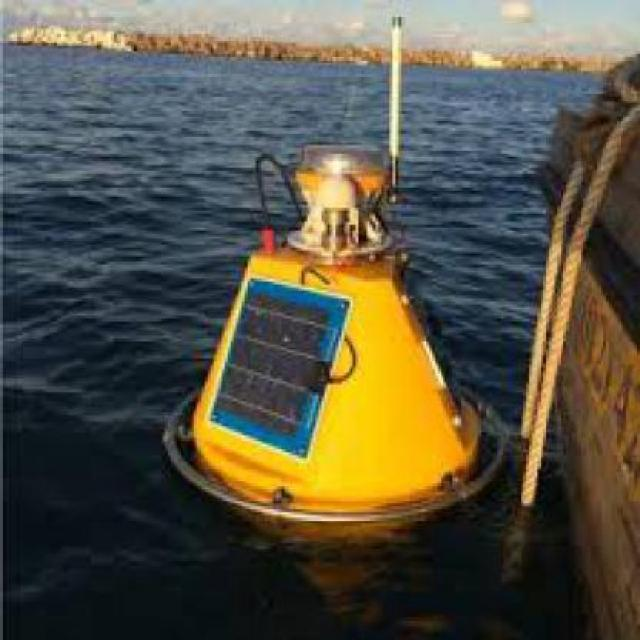buoy: (143, 120, 519, 548)
